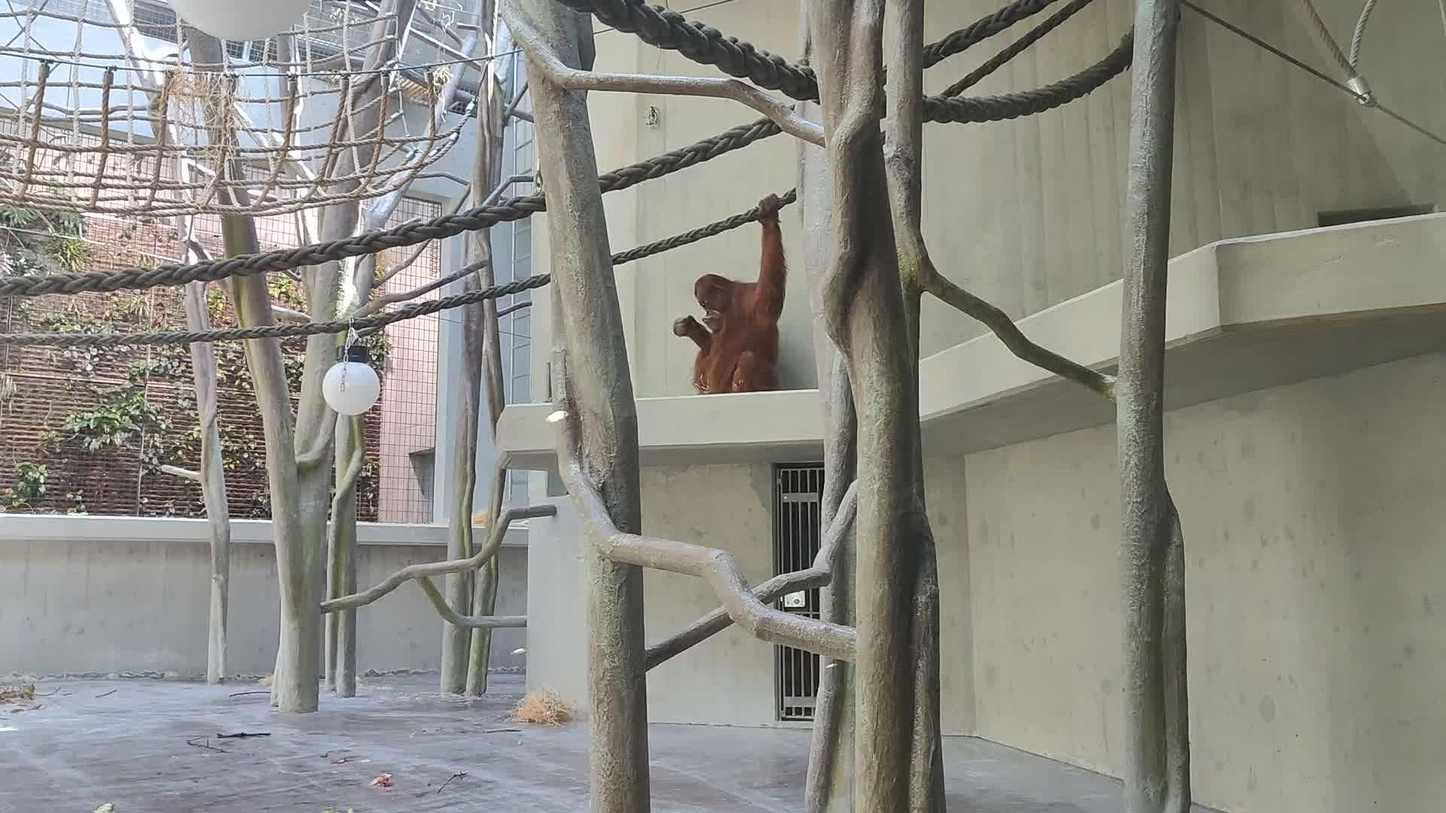boar: (673, 193, 789, 395)
